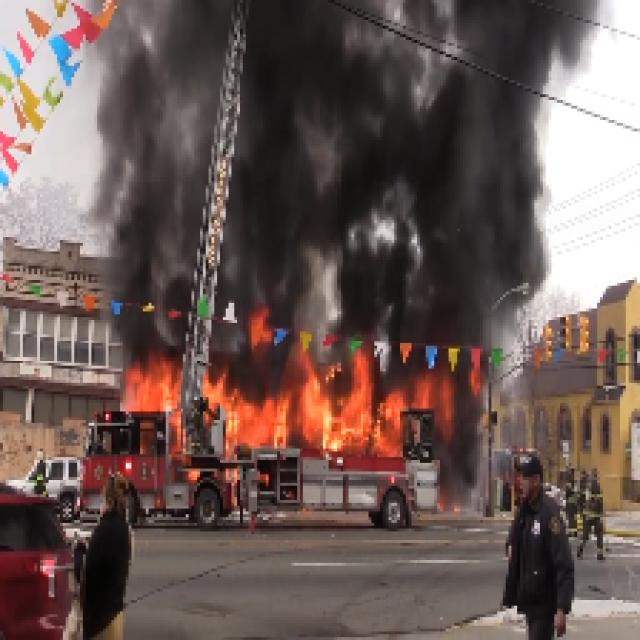fire: (106, 357, 452, 466)
smoke: (100, 0, 603, 300)
